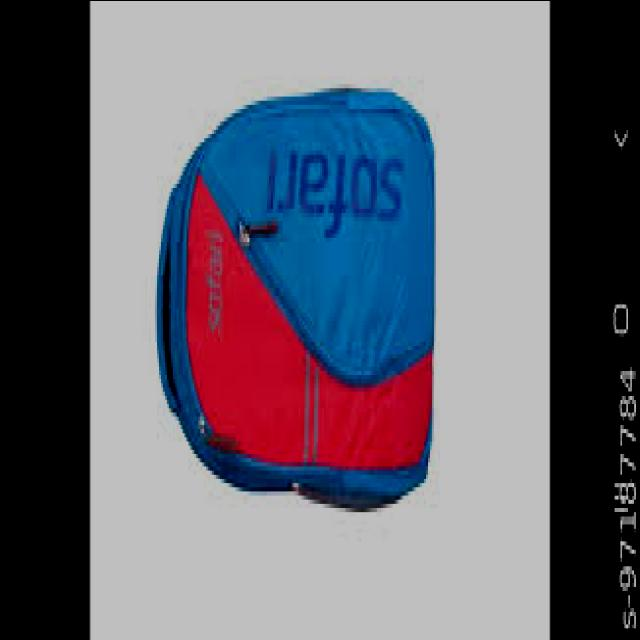backpack: (155, 89, 435, 517)
